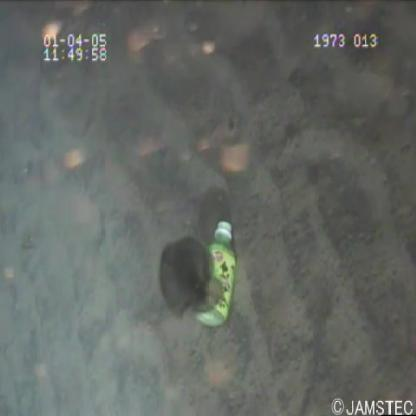Rác: (186, 215, 249, 333)
